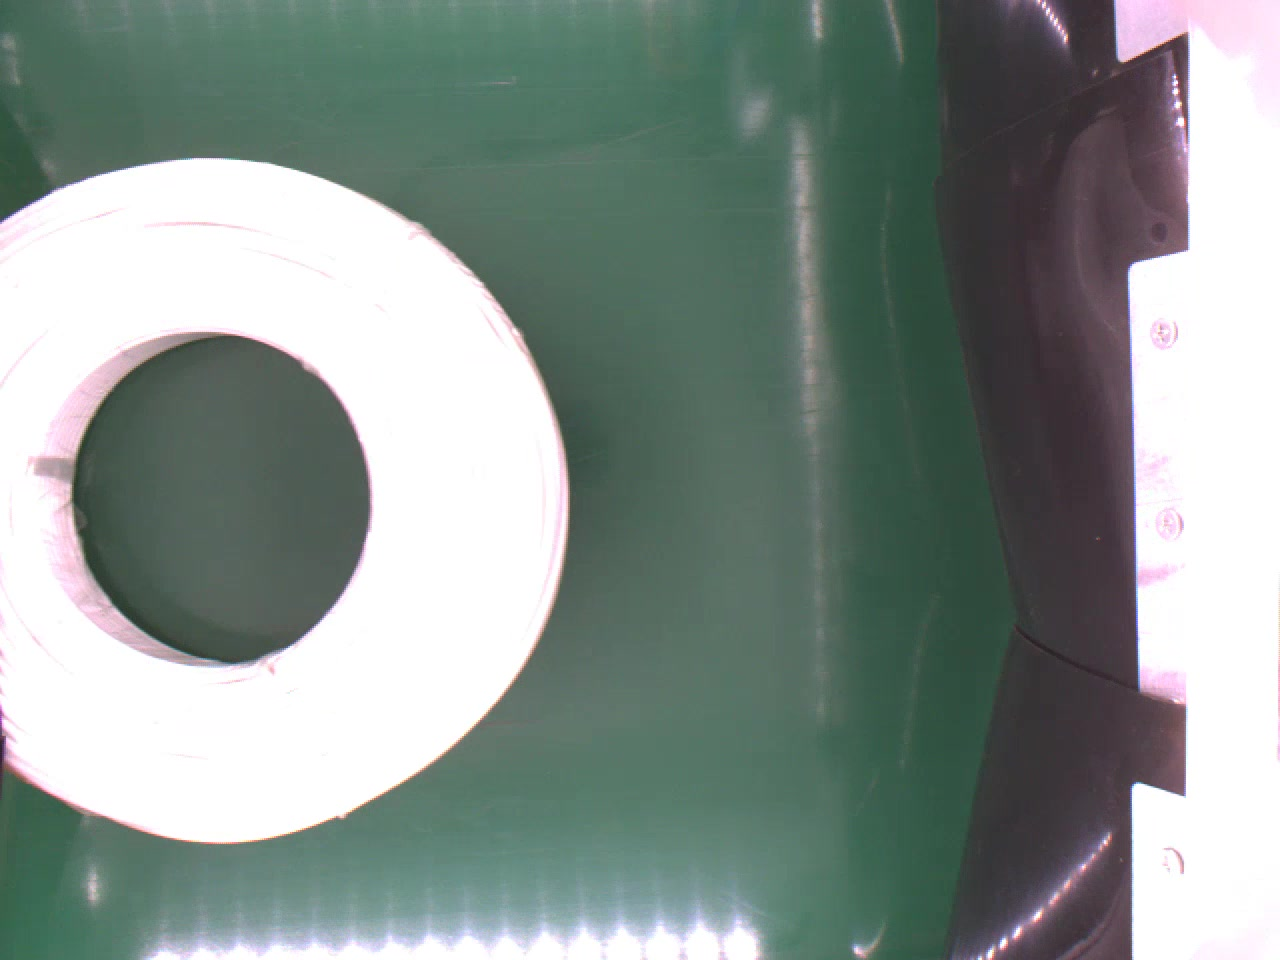white: (0, 157, 573, 851)
